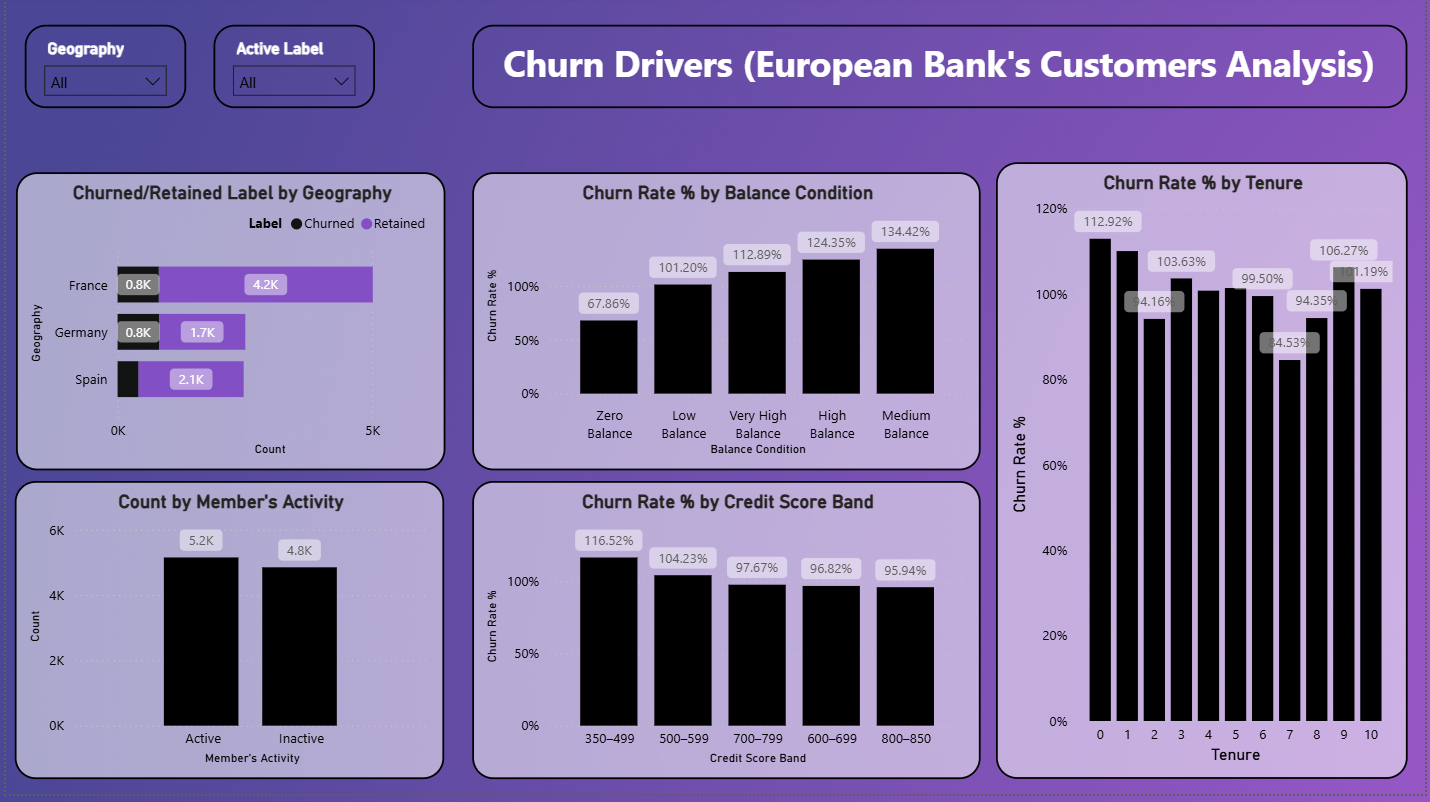

Layout of this report page (visuals, bound fields, positions):
{"tool":"powerbi","page":{"name":"Churn Drivers ","canvas":[1280,720],"ordinal":1},"visuals":[{"type":"barChart","title":"Churned/Retained Label by Geography","fields":{"Category":["European_Bank.Geography"],"Series":["European_Bank.Churn Label"],"Y":["CountNonNull(European_Bank.Churn Label)"]},"box":[9.3,159.3,387.2,268.6],"z":0},{"type":"clusteredColumnChart","fields":{"Category":["European_Bank.Credit Score Band"],"Y":["European_Bank.Churn Rate %"]},"box":[420.9,437.2,458.1,268.6],"z":1000},{"type":"clusteredColumnChart","fields":{"Category":["European_Bank.IsActiveMember.1"],"Y":["CountNonNull(European_Bank.Churn Status)"]},"box":[8.1,437.2,387.2,268.6],"z":2000},{"type":"clusteredColumnChart","fields":{"Y":["European_Bank.Churn Rate %"],"Category":["European_Bank.Balance Condition"]},"box":[420.9,159.3,458.1,268.6],"z":3000},{"type":"clusteredColumnChart","fields":{"Y":["European_Bank.Churn Rate %"],"Category":["European_Bank.Tenure"]},"box":[893,150,370.9,555.8],"z":4000},{"type":"textbox","box":[420.9,25.6,843,75.6],"z":5000},{"type":"slicer","fields":{"Values":["European_Bank.Geography"]},"box":[17.4,25.6,145.3,75.6],"z":6000},{"type":"slicer","fields":{"Values":["European_Bank.Active Label"]},"box":[187.2,25.6,145.3,75.6],"z":6001}]}

Visuals, with their boxes in screenshot pixels (x1, y1, x2, y2), scaled from the page's 1280x720 canvas onto the 1430x802 screenshot:
"Churned/Retained Label by Geography" barChart: 10,177,443,477
clusteredColumnChart - European_Bank.Credit Score Band x European_Bank.Churn Rate %: 470,487,982,786
clusteredColumnChart - European_Bank.IsActiveMember.1 x CountNonNull(European_Bank.Churn Status): 9,487,442,786
clusteredColumnChart - European_Bank.Churn Rate % x European_Bank.Balance Condition: 470,177,982,477
clusteredColumnChart - European_Bank.Churn Rate % x European_Bank.Tenure: 998,167,1412,786
textbox: 470,29,1412,113
slicer - European_Bank.Geography: 19,29,182,113
slicer - European_Bank.Active Label: 209,29,371,113
